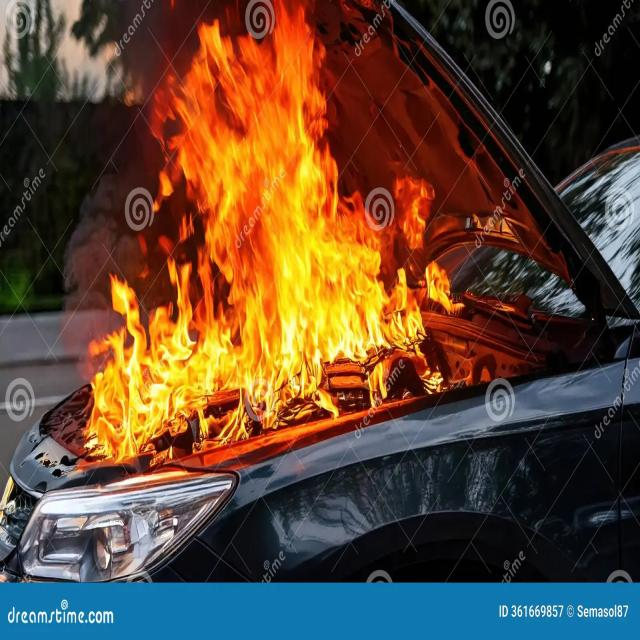fire: (78, 0, 336, 465), (336, 192, 443, 410), (394, 177, 434, 252), (426, 261, 463, 316)
